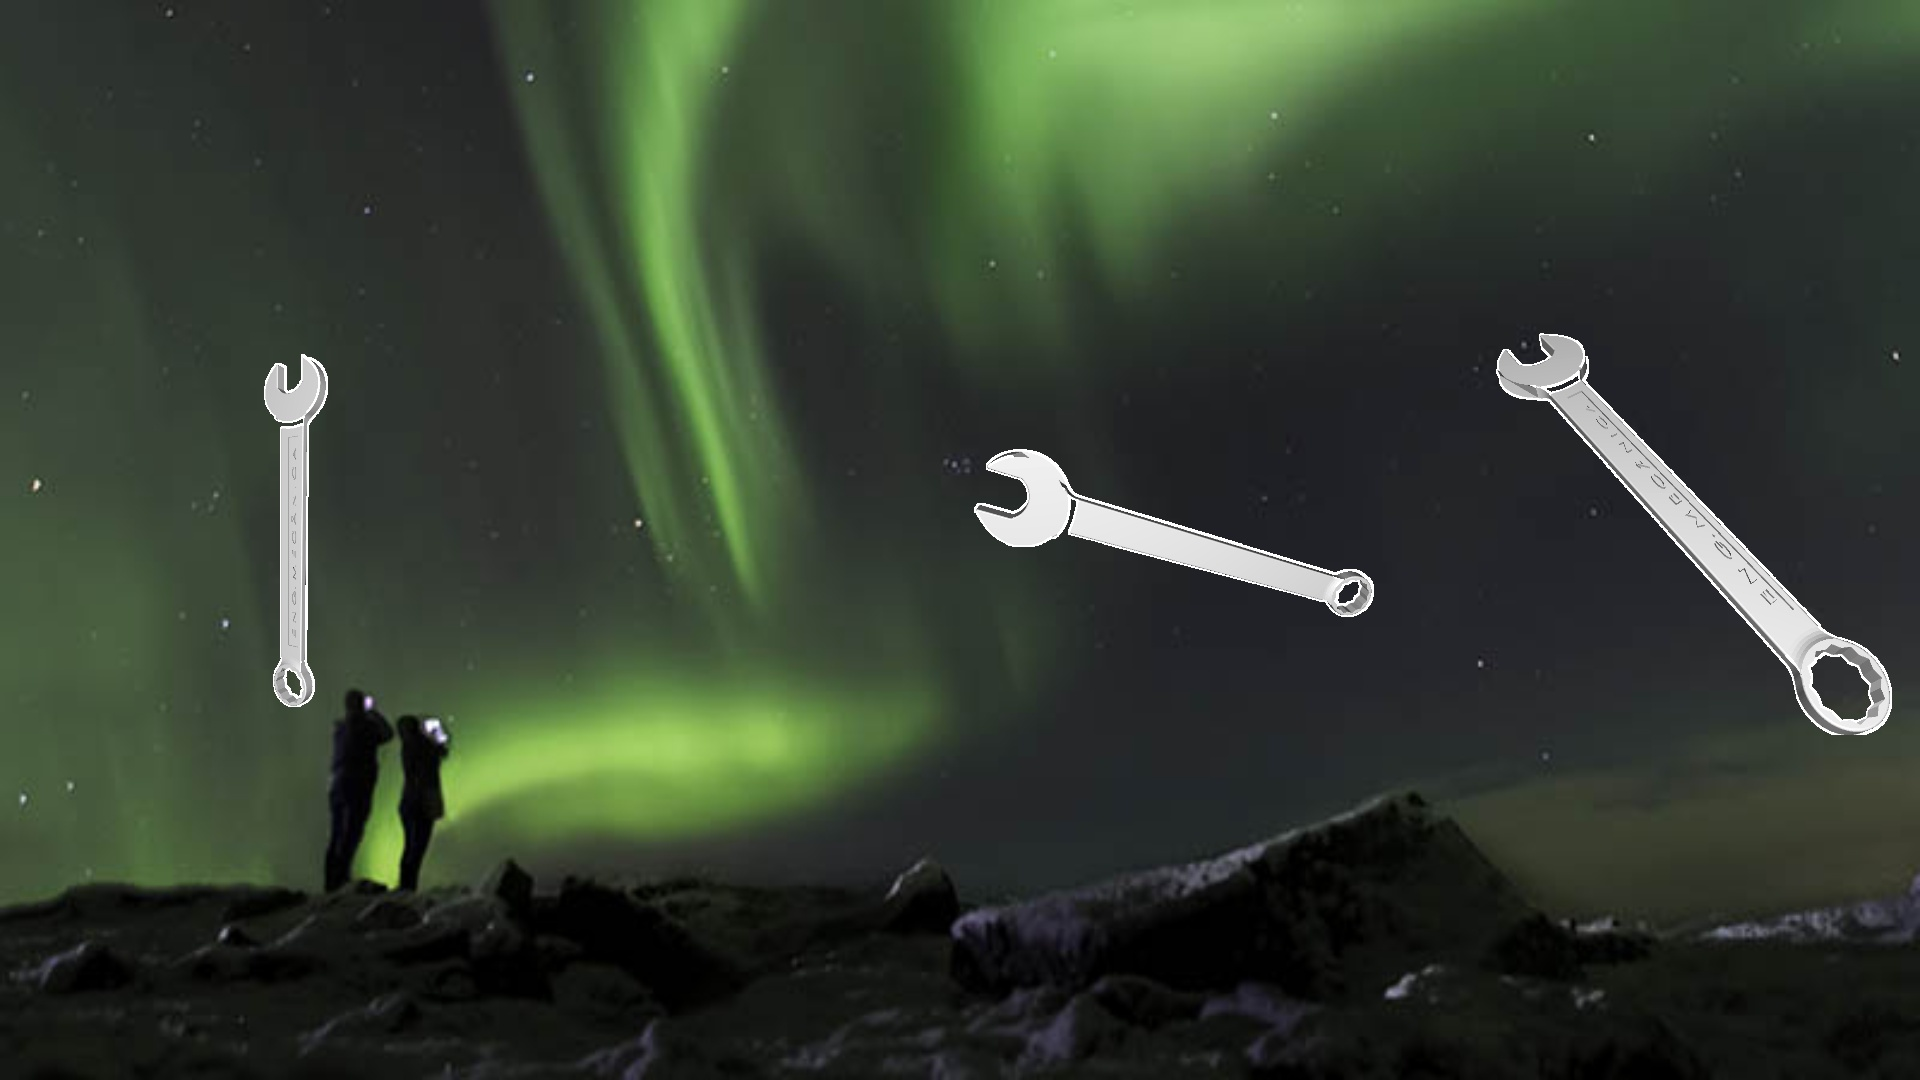Mixed Key: (1495, 334, 1891, 735), (975, 448, 1373, 616), (264, 353, 327, 705)
